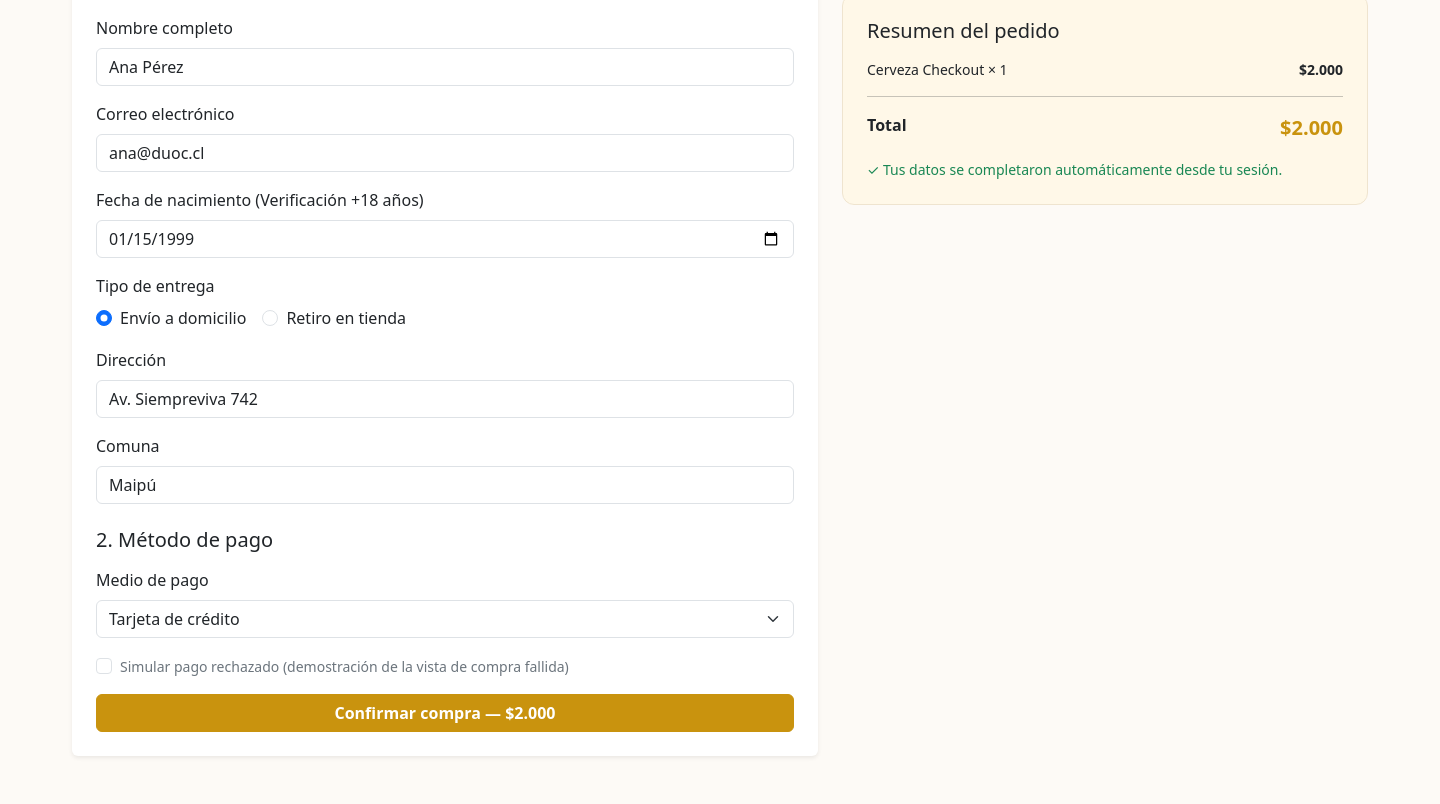
it: Checkout Page › autocompleta y confirma compra exitosa cuando hay sesión iniciada
(page scrolled)
Click the button "Confirmar compra — $2.000" at (445, 713), box [96,694,794,732]
(page scrolled)
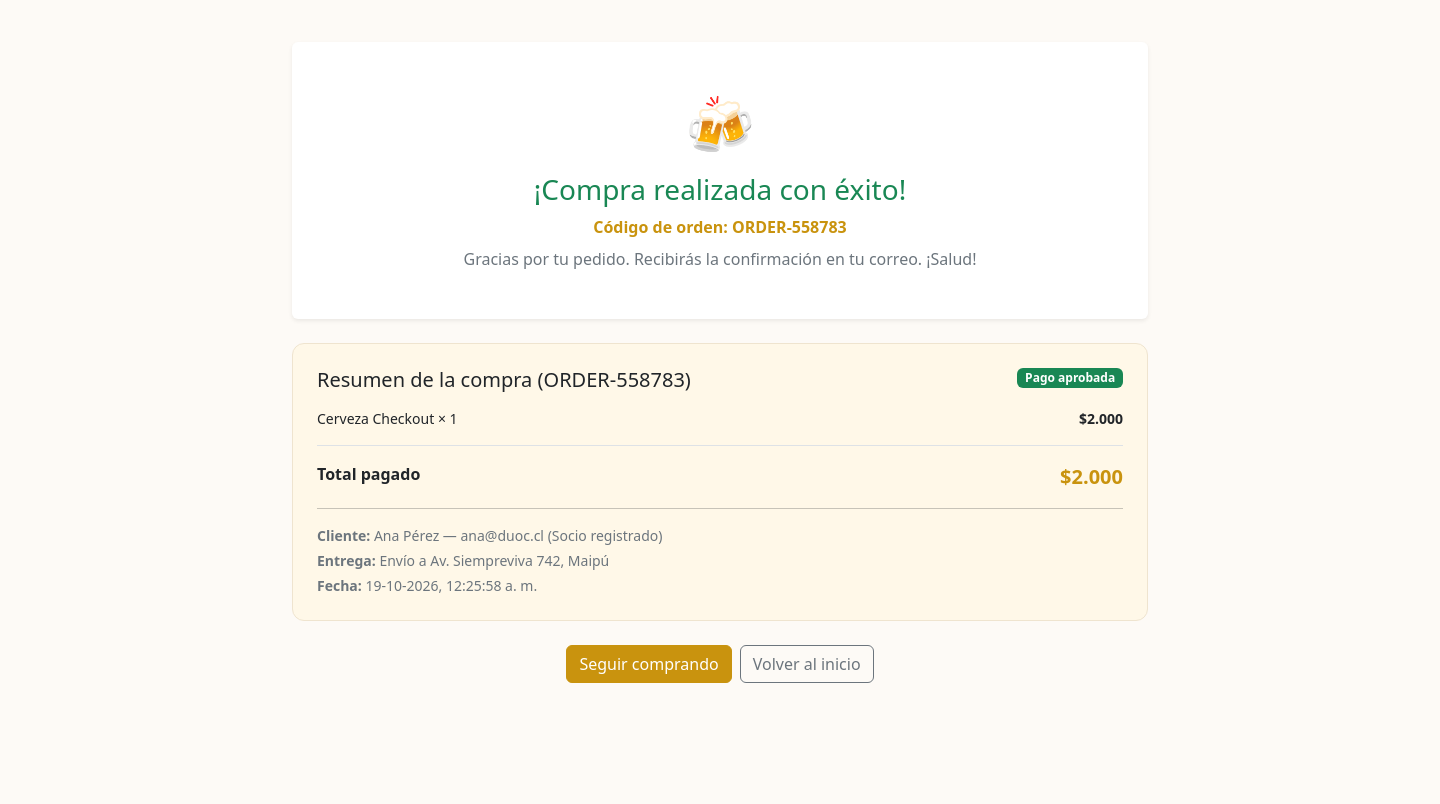
Check: the heading "¡Compra realizada con éxito!" is shown, box [534,170,906,208]
